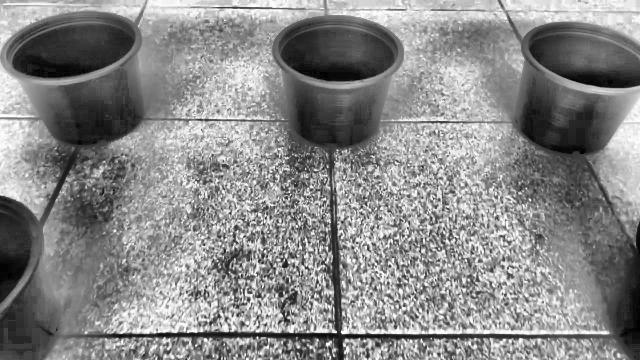pot: (0, 12, 145, 146), (272, 16, 404, 148), (513, 22, 640, 156)
